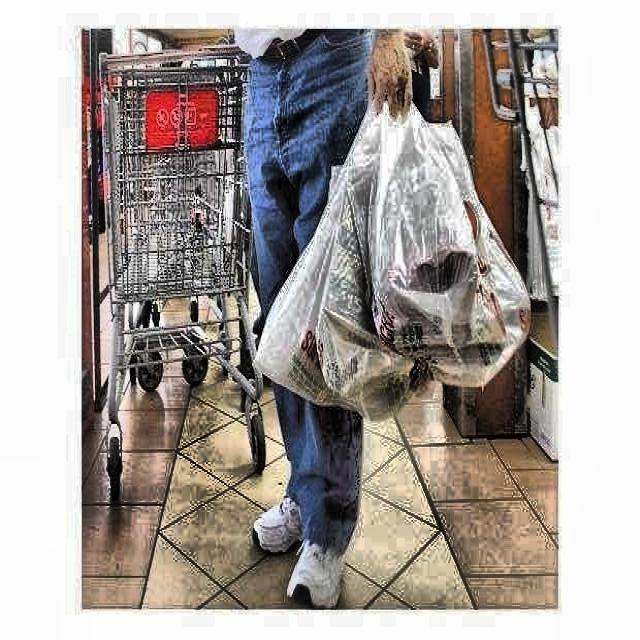Plastic: (368, 110, 518, 377), (249, 158, 382, 436), (294, 162, 425, 416)
